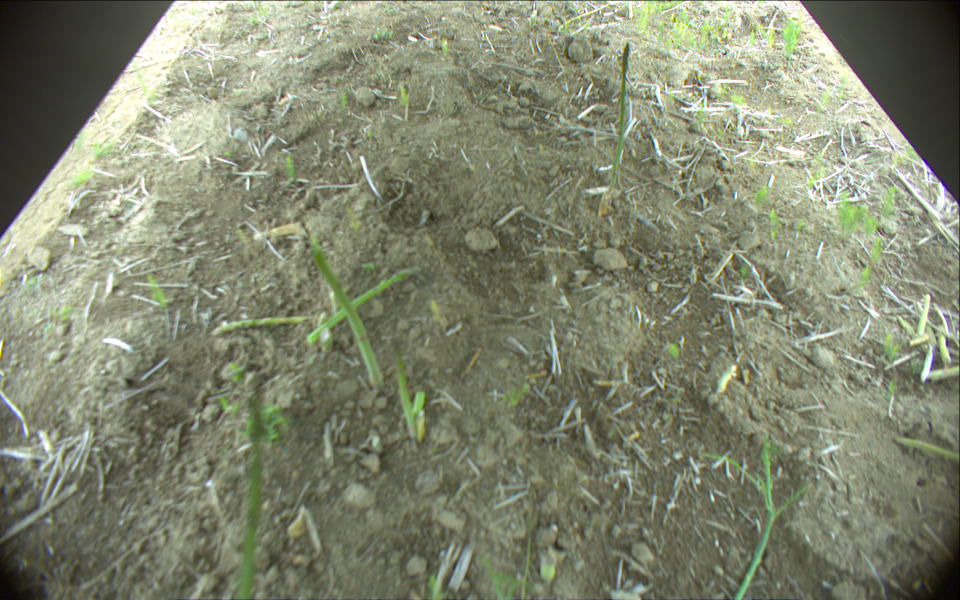aspa: (312, 246, 381, 385), (307, 261, 422, 343), (233, 391, 265, 600), (607, 39, 631, 195), (395, 344, 417, 439), (212, 314, 310, 334), (892, 436, 960, 464), (558, 4, 612, 33)
